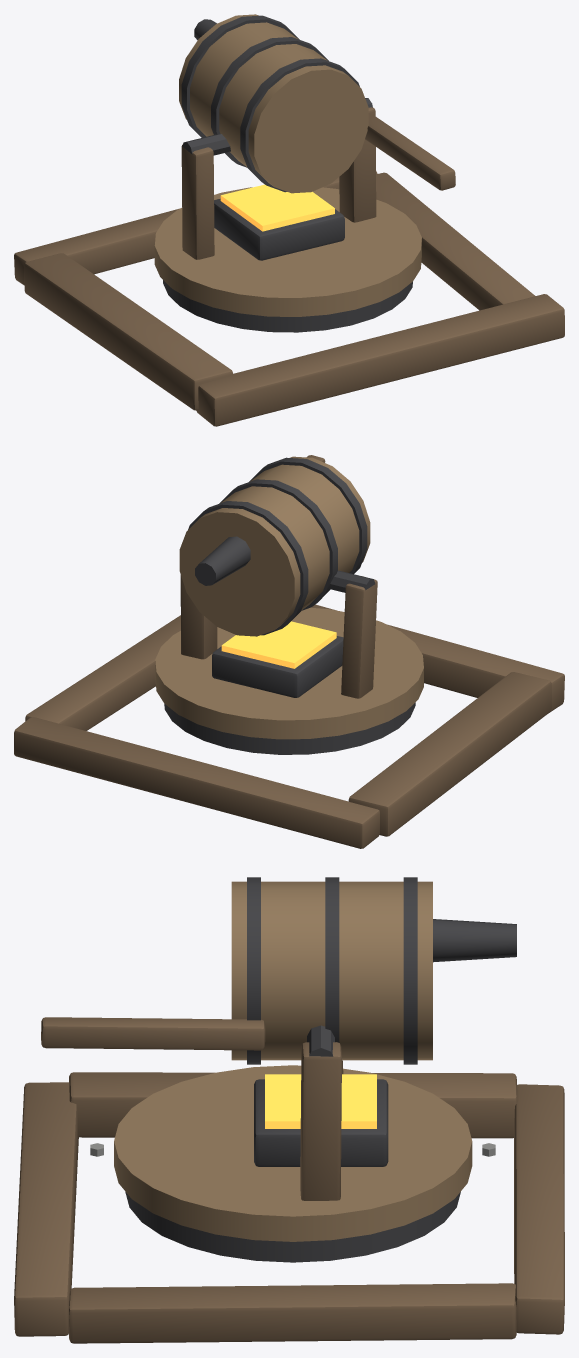
File: oilpot.glb
3 renders of one model, top to bottom at view 1: azimuth 30°, elevation 25°; view 2: azimuth 150°, elevation 25°; view 3: azimuth 270°, elevation 25°, orthographic. The views are drawn at different scales.
Parts seen in each view (by area): view 1: Part, Turret, Gun; view 2: Part, Turret, Gun; view 3: Part, Turret, Gun.
Boxes of the visible parts, x1=… form: Part: x1=14, y1=171, x2=564, y2=426; Turret: x1=154, y1=107, x2=421, y2=316; Gun: x1=179, y1=14, x2=455, y2=193; Part: x1=14, y1=604, x2=564, y2=848; Turret: x1=155, y1=575, x2=423, y2=739; Gun: x1=179, y1=455, x2=375, y2=636; Part: x1=14, y1=1072, x2=564, y2=1343; Turret: x1=114, y1=1042, x2=472, y2=1241; Gun: x1=41, y1=877, x2=516, y2=1064.
Size of the model in its own units: 1 by 0.691 by 0.9845.
